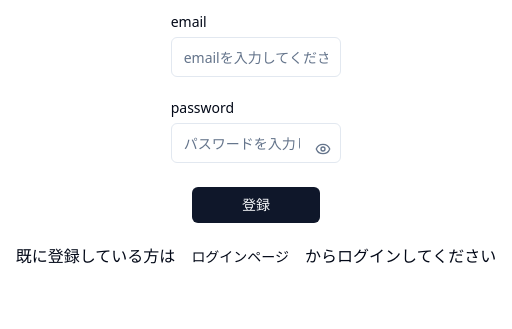
Test: RegisterPage › 必須項目が空の場合、送信されずにエラーメッセージが表示される
# email のみ入力し、password は空のまま
Type "test@example.com" into the field labelled "email". click: (256, 57)
box: [171,37,341,77]
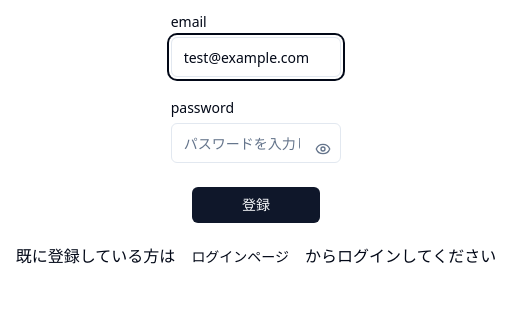
Click the button "登録". click: (256, 205)
box: [192,187,320,223]
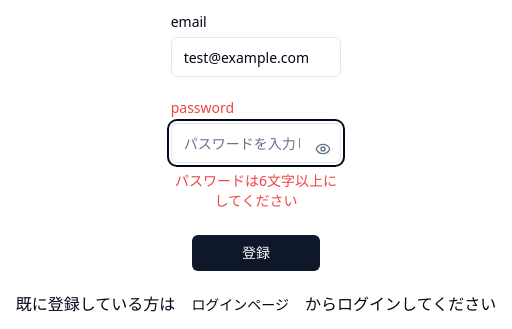
Expected: the text "パスワードは6文字以上にしてください" is shown, [171,171,341,211]
